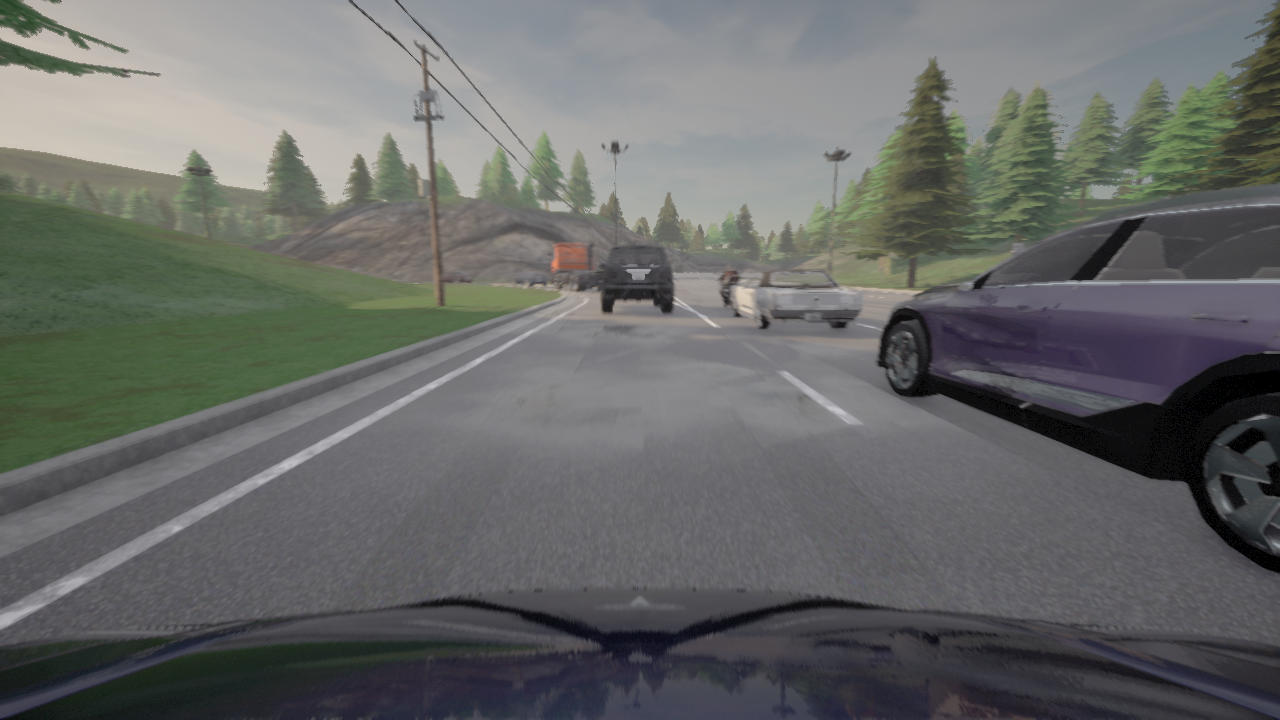cyclist: (0, 588, 1279, 719), (876, 184, 1279, 573), (732, 269, 863, 329), (600, 245, 673, 312), (548, 242, 602, 291), (715, 273, 742, 310), (512, 271, 547, 286), (434, 271, 473, 283)
